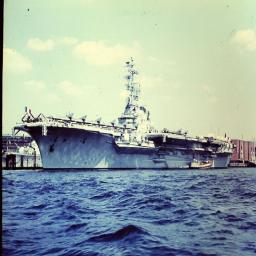Portanaves: (11, 56, 237, 173)
